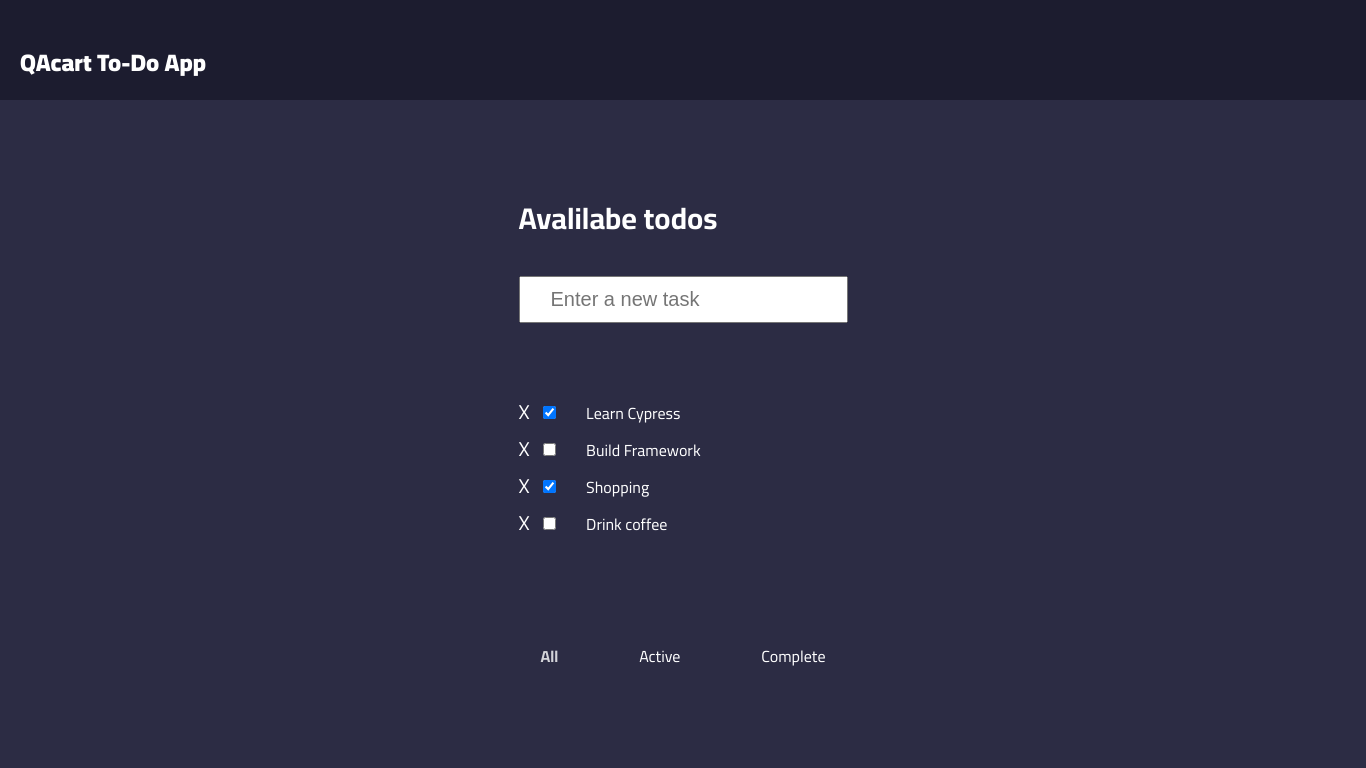
Test case: filter functionality test cases › should filter completed todos correctly
Step 1. Click the link "Complete" → (793, 656), box [759,641,827,671]
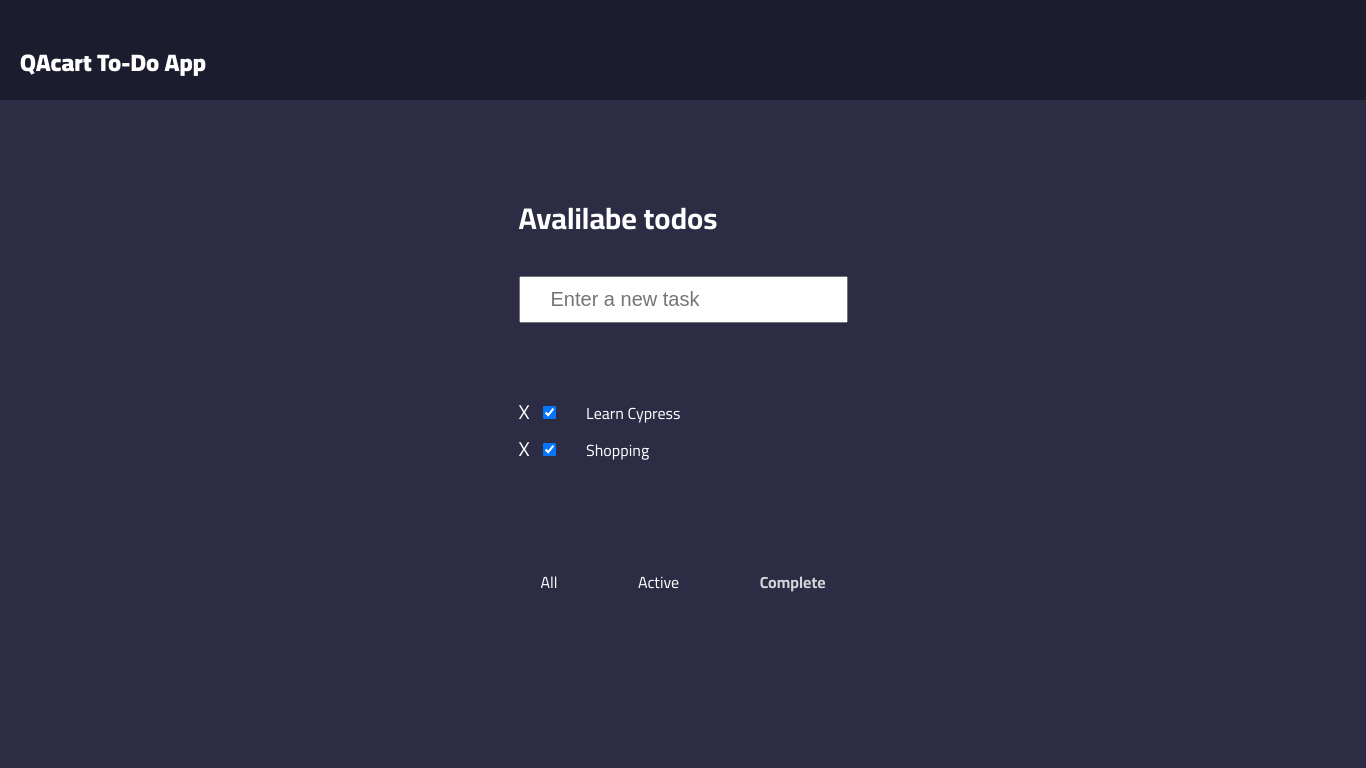
expect the checkbox with class "todo-checkbox" next to "Learn Cypress" is checked: met, box [543,406,556,419]
expect the checkbox with class "todo-checkbox" next to "Shopping" is checked: met, box [543,443,556,456]
